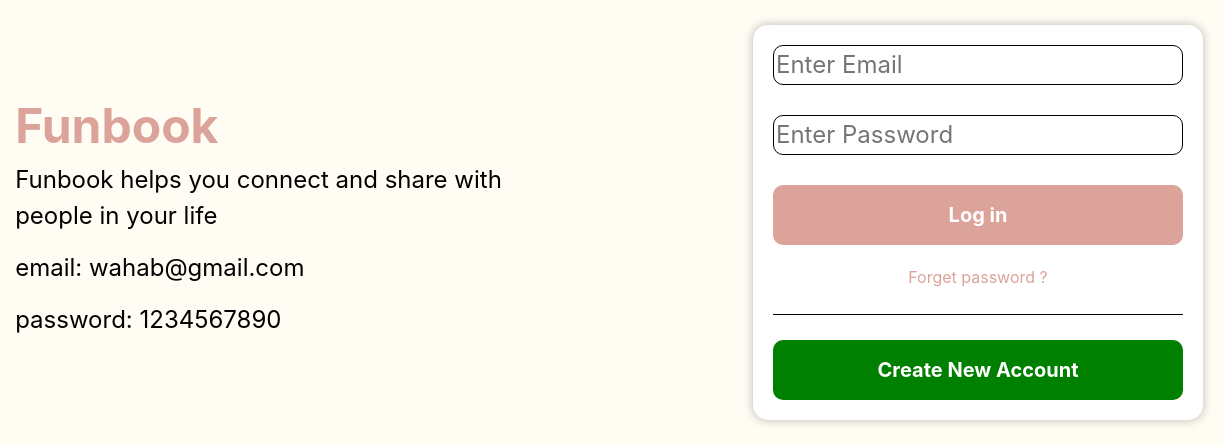
Test: invalid password
Step 1. Type "123456" into the password field with test id "password" → (978, 134), box [773,114,1183,154]
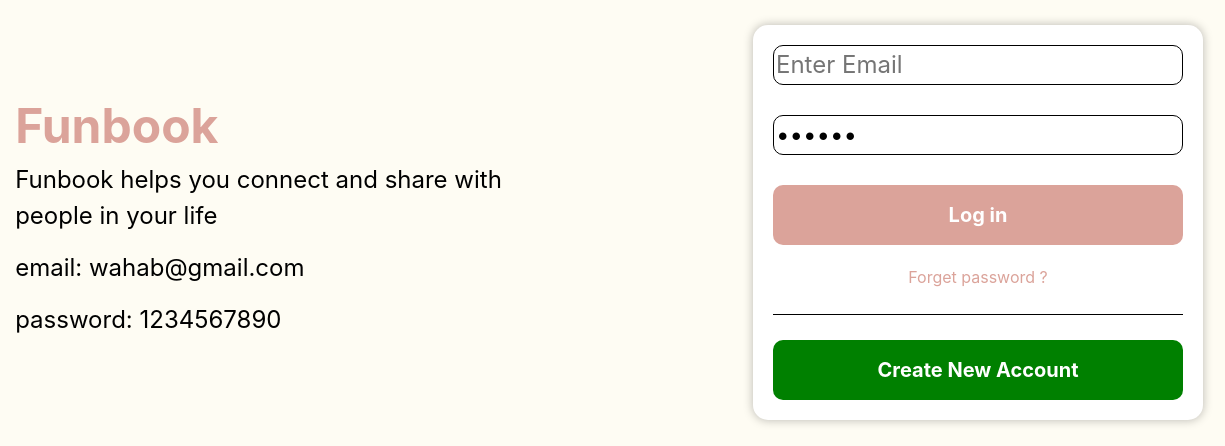
Step 2. Click the button "Log in" → click(978, 214), box [773,184,1183,244]
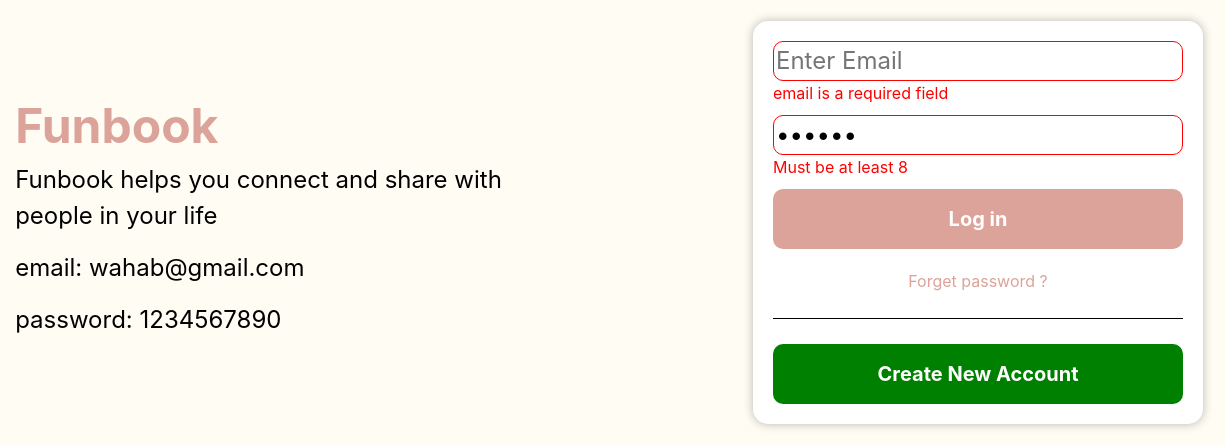
Now the text with test id "error.password" reads "Must be at least 8", box [773,156,908,176]
